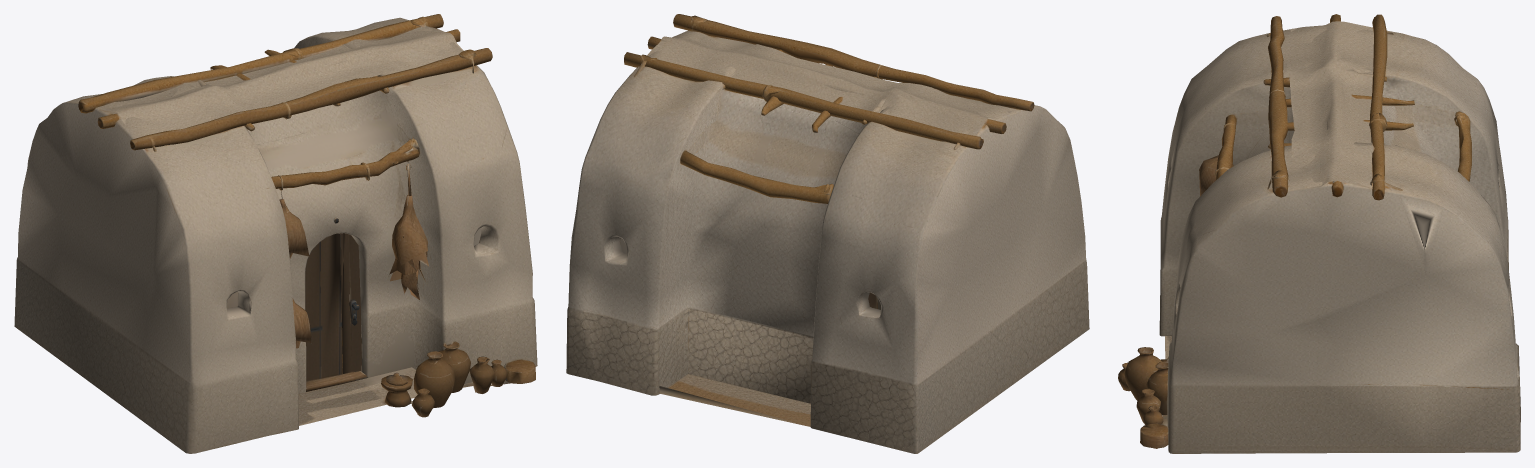
File: sifahane.glb
3 renders of one model, left to right at view 1: azimuth 30°, elevation 25°; view 2: azimuth 150°, elevation 25°; view 3: azimuth 270°, elevation 25°, orthographic.
Bounding box in the file's own units: 0.9541 × 0.7031 × 0.9272.
Materials: 1 (1 with a texture image).
